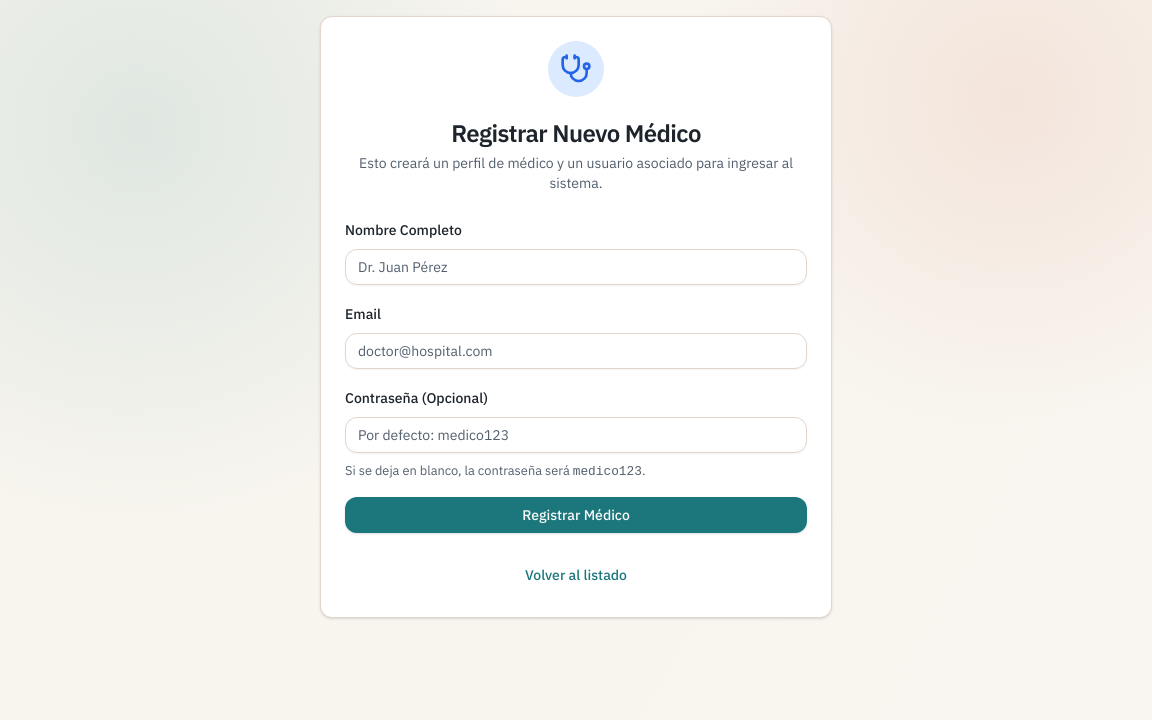
it: CreateMedicoPage › displays error message when creation fails
Type "Dr. Test" into the field labelled "Nombre Completo".
click(576, 267); type("Dr. Test")  # box [345,249,807,285]
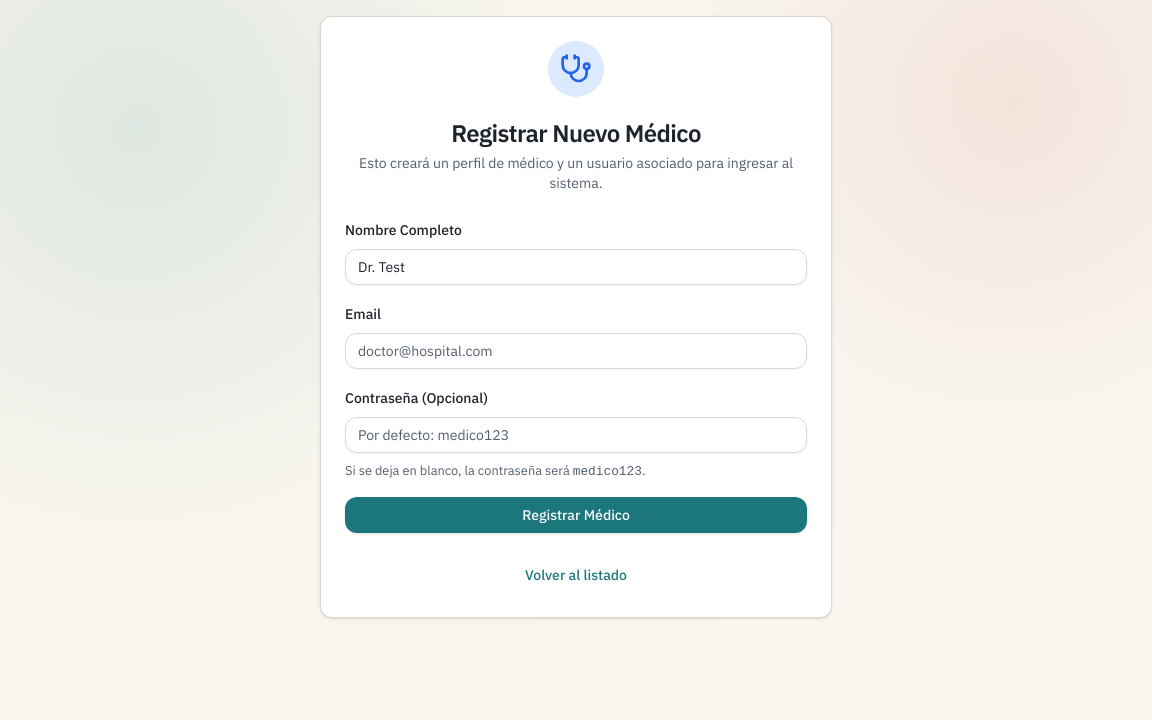
Type "existing@hospital.com" into the field labelled "Email".
click(576, 351); type("existing@hospital.com")  # box [345,333,807,369]
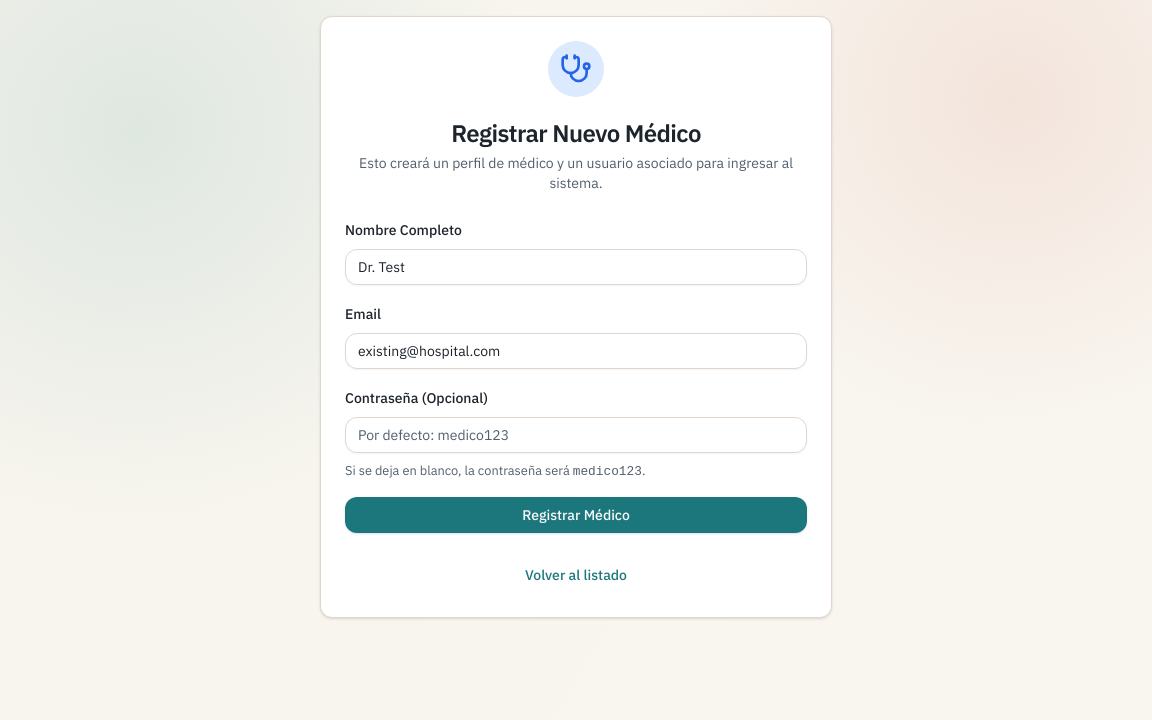
Click the button "Registrar Médico".
click(576, 515)  # box [345,497,807,533]
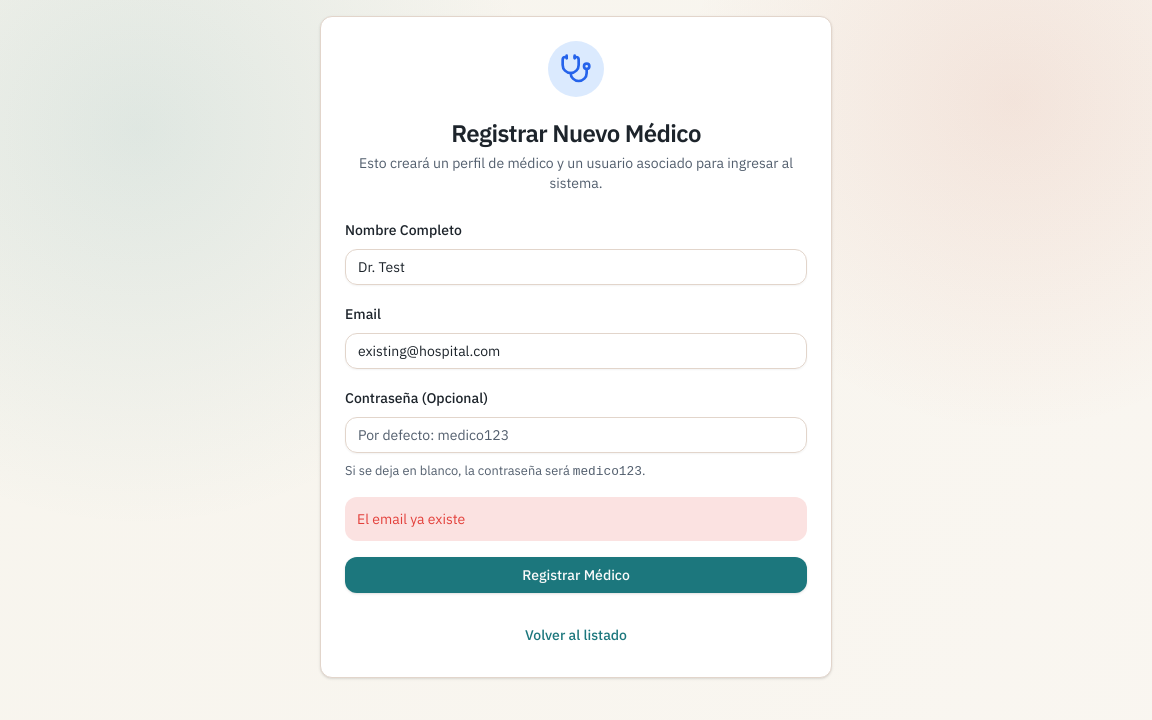
Result: the text "El email ya existe" is shown at [345,497,807,541]
